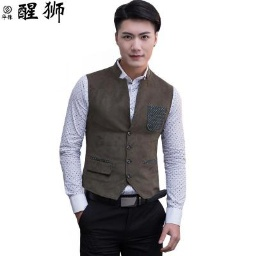face: (113, 1, 161, 67)
